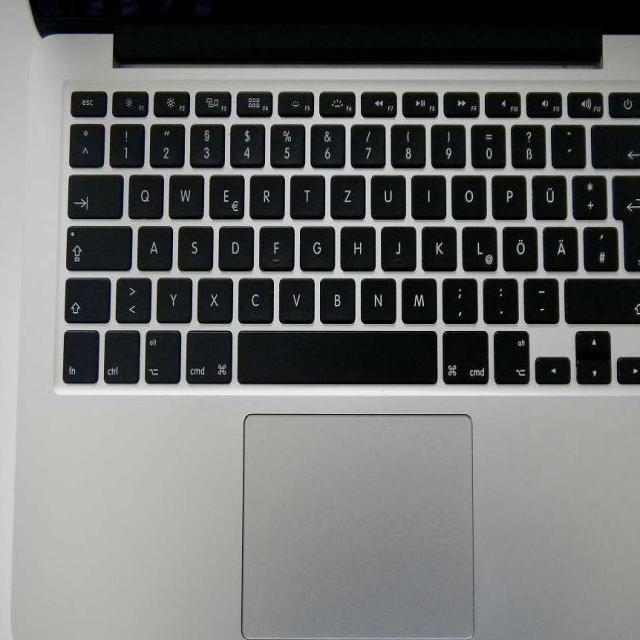0: (468, 120, 505, 165)
1: (107, 119, 143, 165)
2: (147, 120, 183, 165)
3: (187, 120, 224, 165)
4: (227, 120, 264, 164)
5: (267, 119, 304, 164)
6: (307, 120, 344, 164)
7: (348, 121, 384, 164)
8: (388, 121, 425, 165)
9: (428, 120, 465, 165)
a: (134, 222, 171, 267)
accent: (549, 121, 584, 165)
ae: (541, 222, 576, 268)
alt-left: (143, 328, 181, 383)
altgr-right: (491, 328, 529, 383)
b: (316, 273, 354, 320)
c: (236, 273, 273, 321)
caret: (67, 119, 102, 165)
comma: (439, 273, 476, 321)
d: (215, 222, 252, 268)
del: (589, 121, 640, 166)
e: (206, 170, 243, 216)
enter: (609, 170, 640, 274)
f: (257, 222, 292, 267)
g: (297, 222, 333, 268)
h: (337, 222, 374, 268)
hash: (581, 222, 617, 268)
i: (408, 170, 444, 215)
j: (378, 222, 414, 267)
k: (419, 222, 456, 267)
keyboard: (49, 67, 640, 398)
l: (460, 222, 496, 268)
less: (114, 273, 150, 320)
m: (398, 273, 436, 321)
minus: (520, 273, 557, 320)
n: (357, 273, 395, 321)
o: (448, 170, 485, 216)
oe: (500, 223, 536, 268)
p: (489, 170, 525, 217)
plus: (570, 170, 605, 217)
point: (480, 273, 517, 320)
q: (125, 169, 163, 216)
r: (247, 170, 284, 216)
s: (175, 222, 212, 268)
shift-left: (62, 273, 110, 322)
shift-lock: (64, 222, 131, 268)
shift-right: (561, 273, 640, 322)
space: (235, 327, 436, 382)
ss: (508, 121, 544, 165)
strg-left: (101, 327, 140, 383)
t: (287, 170, 323, 216)
tab: (65, 169, 122, 217)
u: (368, 170, 405, 216)
ue: (529, 170, 565, 217)
v: (277, 273, 314, 320)
w: (166, 169, 202, 216)
x: (195, 273, 232, 320)
y: (154, 273, 191, 320)
z: (328, 170, 365, 216)
